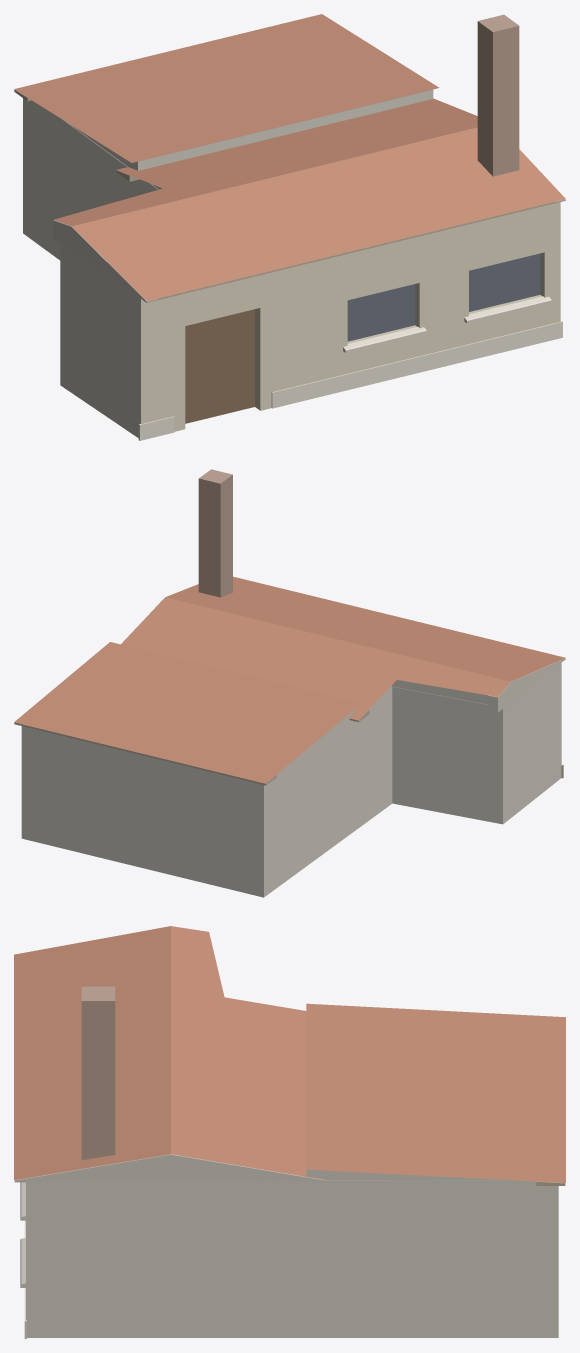
3 views of the same model, one above another, from view 1: azimuth 30°, elevation 25°; view 2: azimuth 150°, elevation 25°; view 3: azimuth 270°, elevation 25° (orthographic). The views are drawn at different scales.
Visible parts, largest first — view 1: CP_413_a_Masonry, CP_413_a_Roof, CP_413_a_WingRoof_Rear, CP_413_a_Chimney_0, CP_413_a_Cornice_plinth_1, CP_413_a_AtticClosure, CP_413_a_Gable_L_gable, CP_413_a_Roof_EaveClosure_0, CP_413_a_Sill_W2, CP_413_a_Sill_W1, CP_413_a_Cornice_plinth_0; view 2: CP_413_a_Masonry, CP_413_a_Roof, CP_413_a_WingRoof_Rear, CP_413_a_Chimney_0, CP_413_a_AtticClosure, CP_413_a_Gable_L_gable, CP_413_a_WingRoof_Rear_EaveClosure_0; view 3: CP_413_a_Masonry, CP_413_a_Roof, CP_413_a_WingRoof_Rear, CP_413_a_Chimney_0, CP_413_a_Gable_R_gable, CP_413_a_AtticClosure.
Part boxes in pixels (x1=…): CP_413_a_Masonry: x1=23, y1=98, x2=560, y2=437; CP_413_a_Roof: x1=53, y1=98, x2=565, y2=300; CP_413_a_WingRoof_Rear: x1=14, y1=14, x2=439, y2=162; CP_413_a_Chimney_0: x1=477, y1=14, x2=519, y2=176; CP_413_a_Cornice_plinth_1: x1=271, y1=321, x2=562, y2=408; CP_413_a_AtticClosure: x1=71, y1=89, x2=433, y2=189; CP_413_a_Gable_L_gable: x1=53, y1=220, x2=157, y2=301; CP_413_a_Roof_EaveClosure_0: x1=142, y1=200, x2=565, y2=302; CP_413_a_Sill_W2: x1=464, y1=296, x2=551, y2=323; CP_413_a_Sill_W1: x1=343, y1=327, x2=426, y2=352; CP_413_a_Cornice_plinth_0: x1=138, y1=416, x2=174, y2=440; CP_413_a_Masonry: x1=21, y1=661, x2=561, y2=897; CP_413_a_Roof: x1=121, y1=576, x2=565, y2=720; CP_413_a_WingRoof_Rear: x1=14, y1=642, x2=361, y2=783; CP_413_a_Chimney_0: x1=198, y1=469, x2=232, y2=597; CP_413_a_AtticClosure: x1=314, y1=680, x2=488, y2=743; CP_413_a_Gable_L_gable: x1=488, y1=658, x2=565, y2=712; CP_413_a_WingRoof_Rear_EaveClosure_0: x1=14, y1=722, x2=276, y2=785; CP_413_a_Masonry: x1=26, y1=1180, x2=558, y2=1337; CP_413_a_Roof: x1=14, y1=926, x2=327, y2=1180; CP_413_a_WingRoof_Rear: x1=306, y1=1003, x2=565, y2=1182; CP_413_a_Chimney_0: x1=81, y1=986, x2=115, y2=1160; CP_413_a_Gable_R_gable: x1=14, y1=1154, x2=327, y2=1181; CP_413_a_AtticClosure: x1=306, y1=1169, x2=502, y2=1179.
Size of the model in its own units: 11.36 by 7.5 by 11.43.
